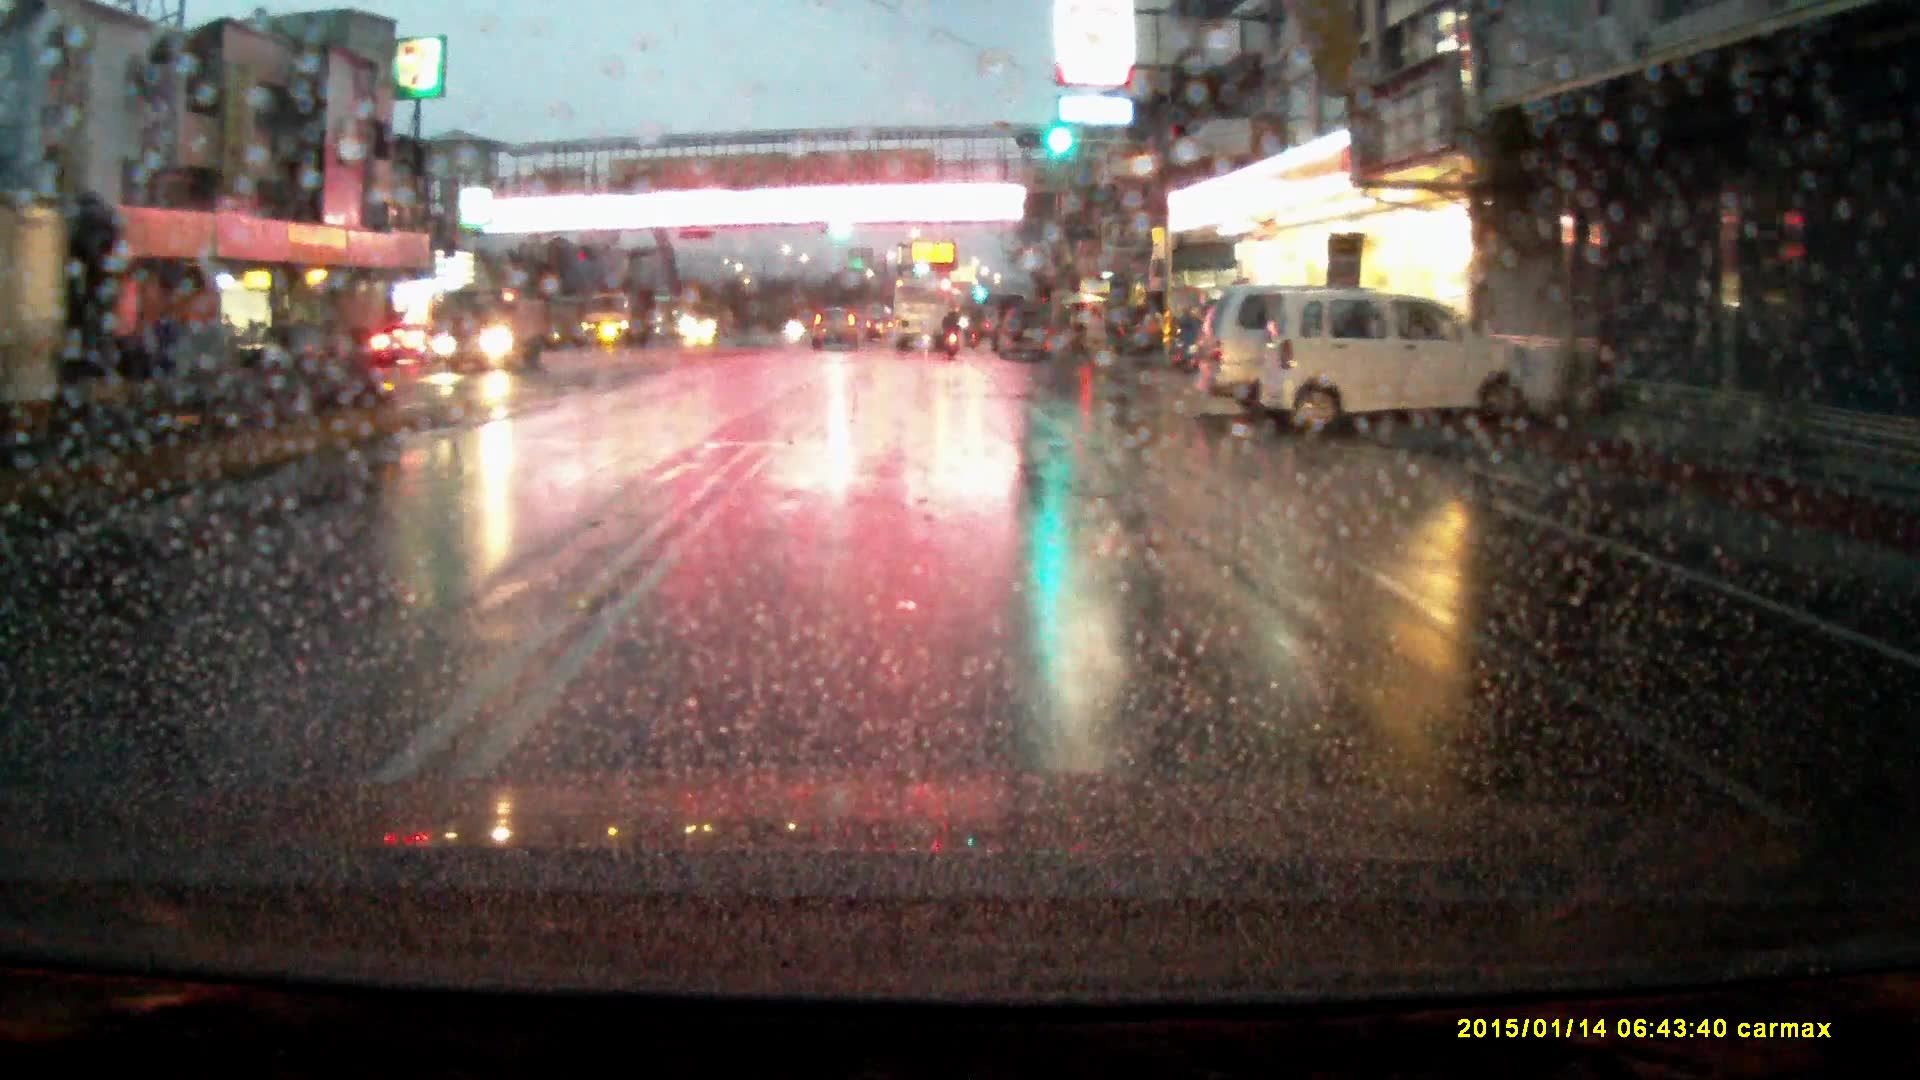rider: (942, 310, 963, 362)
vehicle: (1260, 293, 1564, 438), (1197, 287, 1371, 430), (434, 296, 542, 378), (241, 322, 353, 377), (895, 279, 952, 352), (579, 293, 650, 346), (996, 306, 1054, 364), (370, 326, 441, 370), (1110, 305, 1165, 361), (681, 298, 743, 344), (813, 304, 863, 353)
